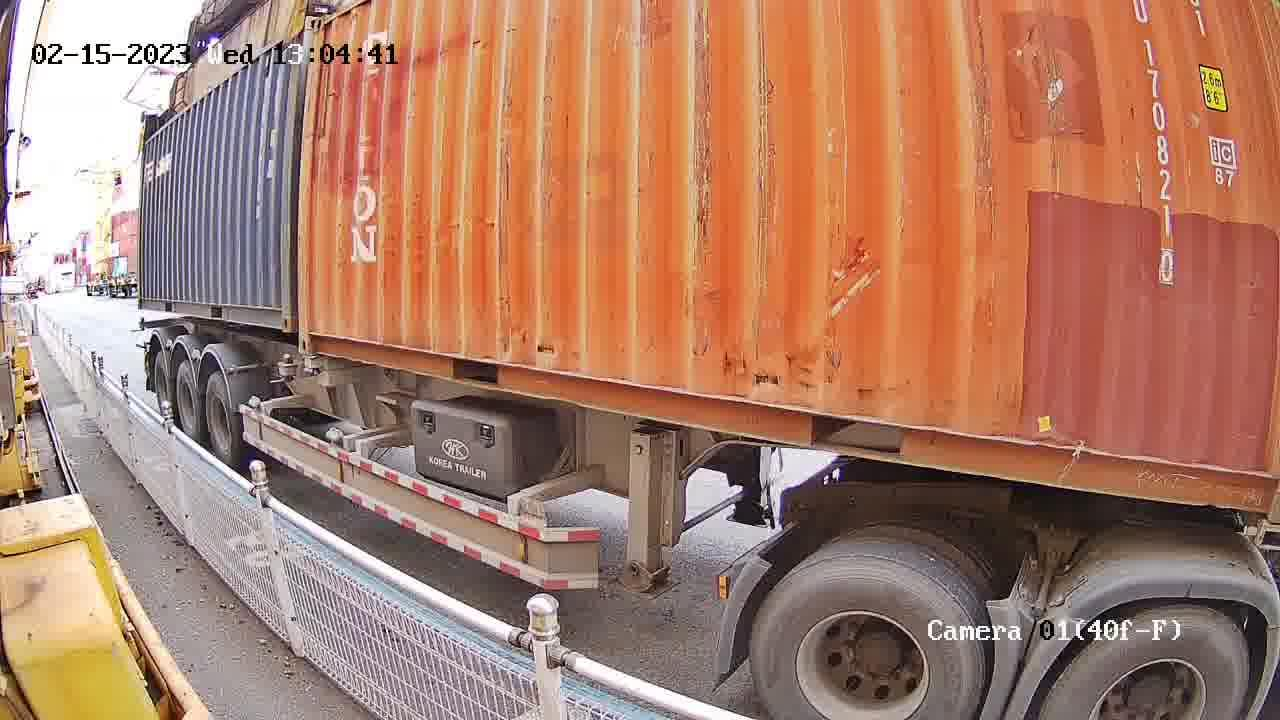Cone: (275, 353, 297, 380), (301, 354, 320, 375)
Hole_L: (297, 313, 335, 358)
Hole_R: (256, 292, 291, 332)
Tire: (744, 560, 983, 719), (1044, 605, 1252, 716), (204, 376, 237, 463), (175, 362, 201, 441), (153, 353, 172, 405)
